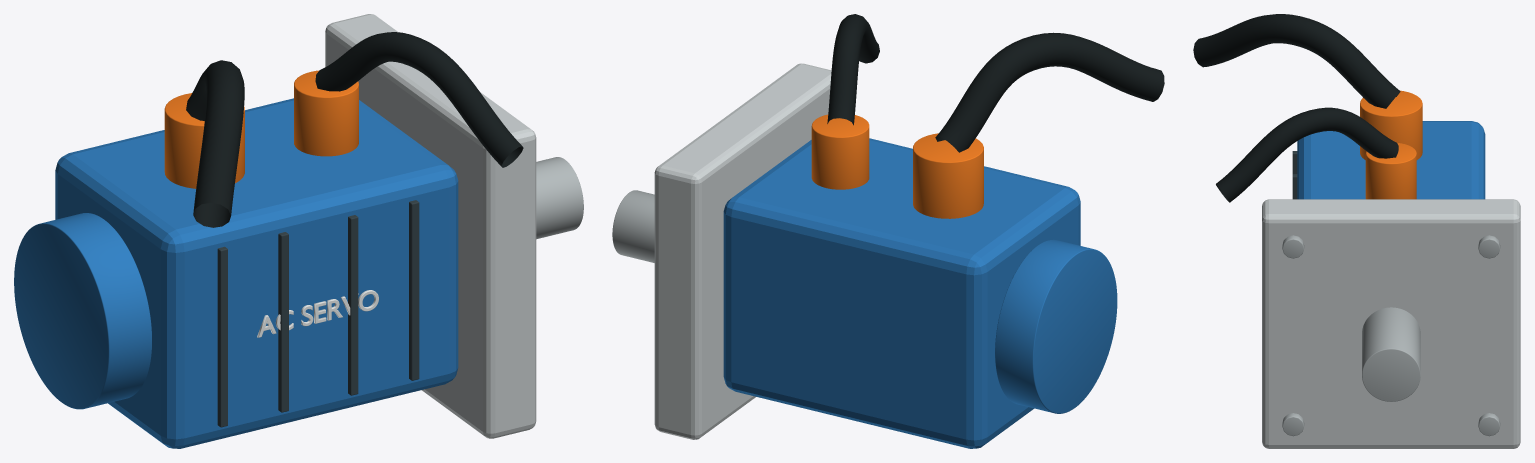
The model's file is ac_servo_motor.glb.
3 views of the same model, side by side, from view 1: azimuth 30°, elevation 25°; view 2: azimuth 150°, elevation 25°; view 3: azimuth 270°, elevation 25° (orthographic). The views are drawn at different scales.
Visible parts, largest first — view 1: SERVO_FRAME, FRONT_FLANGE, ENCODER_CAP, ENCODER_CABLE, POWER_CABLE, ENCODER_CONNECTOR, POWER_CONNECTOR, KIN_SERVO_SHAFT, SERVO_GROOVE_0.22, SERVO_GROOVE_-0.22, SERVO_GROOVE_0.08, SERVO_GROOVE_-0.08 (+1 smaller); view 2: SERVO_FRAME, FRONT_FLANGE, ENCODER_CAP, POWER_CABLE, POWER_CONNECTOR, ENCODER_CONNECTOR, ENCODER_CABLE, KIN_SERVO_SHAFT; view 3: FRONT_FLANGE, SERVO_FRAME, POWER_CABLE, ENCODER_CABLE, KIN_SERVO_SHAFT, POWER_CONNECTOR, ENCODER_CONNECTOR, FLANGE_BOLT_0.25_0.23, FLANGE_BOLT_-0.25_0.23, FLANGE_BOLT_0.25_0.73, FLANGE_BOLT_-0.25_0.73.
Part boxes in pixels (x1,y1,x2,y2): SERVO_FRAME: (55, 98, 458, 448); FRONT_FLANGE: (325, 14, 536, 438); ENCODER_CAP: (14, 213, 151, 409); ENCODER_CABLE: (315, 32, 523, 167); POWER_CABLE: (186, 60, 244, 227); ENCODER_CONNECTOR: (294, 70, 358, 156); POWER_CONNECTOR: (164, 93, 244, 188); KIN_SERVO_SHAFT: (536, 157, 583, 239); SERVO_GROOVE_0.22: (409, 200, 419, 380); SERVO_GROOVE_-0.22: (217, 246, 227, 427); SERVO_GROOVE_0.08: (348, 215, 358, 395); SERVO_GROOVE_-0.08: (278, 232, 288, 412); SERVO_FRAME: (723, 138, 1080, 448); FRONT_FLANGE: (654, 63, 831, 439); ENCODER_CAP: (995, 239, 1117, 413); POWER_CABLE: (935, 32, 1164, 152); POWER_CONNECTOR: (913, 133, 983, 218); ENCODER_CONNECTOR: (811, 114, 869, 189); ENCODER_CABLE: (827, 14, 879, 125); KIN_SERVO_SHAFT: (612, 190, 654, 262); FRONT_FLANGE: (1262, 199, 1520, 448); SERVO_FRAME: (1297, 121, 1485, 199); POWER_CABLE: (1193, 14, 1400, 108); ENCODER_CABLE: (1216, 107, 1398, 202); KIN_SERVO_SHAFT: (1362, 307, 1420, 401); POWER_CONNECTOR: (1360, 90, 1422, 159); ENCODER_CONNECTOR: (1365, 142, 1416, 199); FLANGE_BOLT_0.25_0.23: (1478, 413, 1500, 436); FLANGE_BOLT_-0.25_0.23: (1282, 413, 1304, 436); FLANGE_BOLT_0.25_0.73: (1478, 235, 1500, 258); FLANGE_BOLT_-0.25_0.73: (1282, 235, 1304, 258).
Bounding box in the file's own units: 1.16 × 0.909 × 0.8351.
